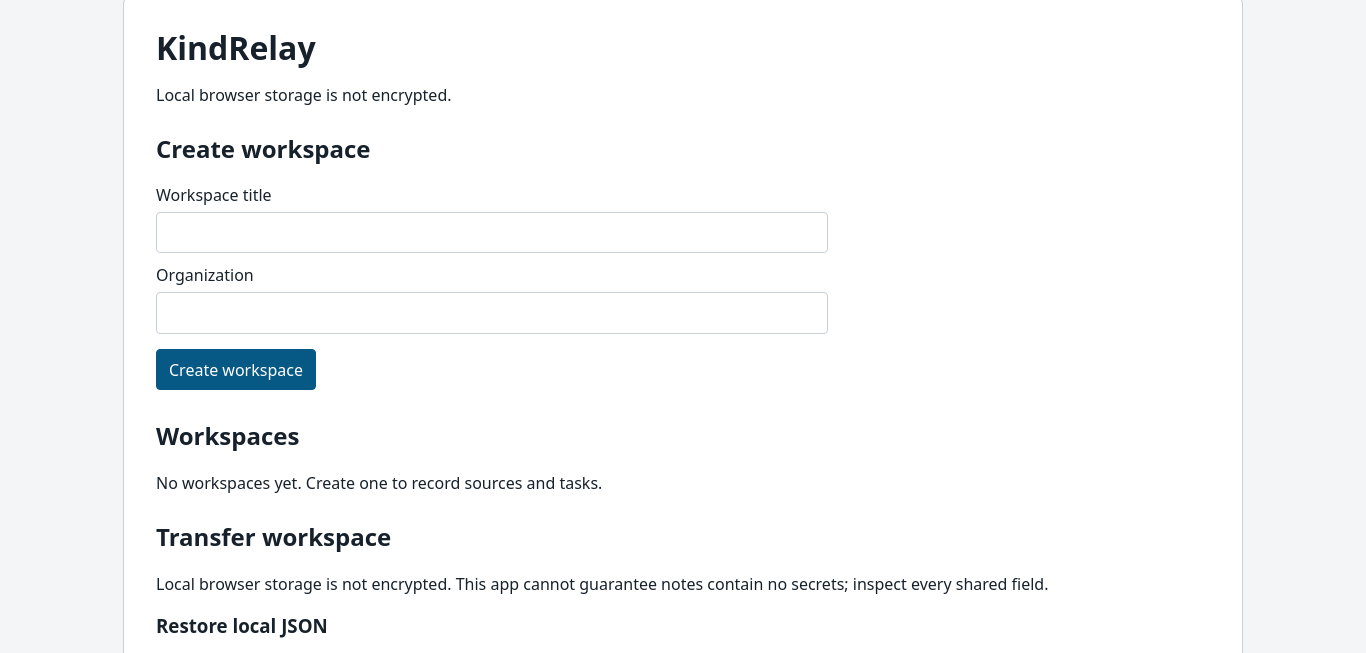
KindRelay workspace editor › accepts each canonical suggestion once and filters it after acceptance
Type "October handover" into the field labelled "Workspace title".
click(492, 232); type("October handover")  # box top-left (156, 212), bottom-right (828, 253)
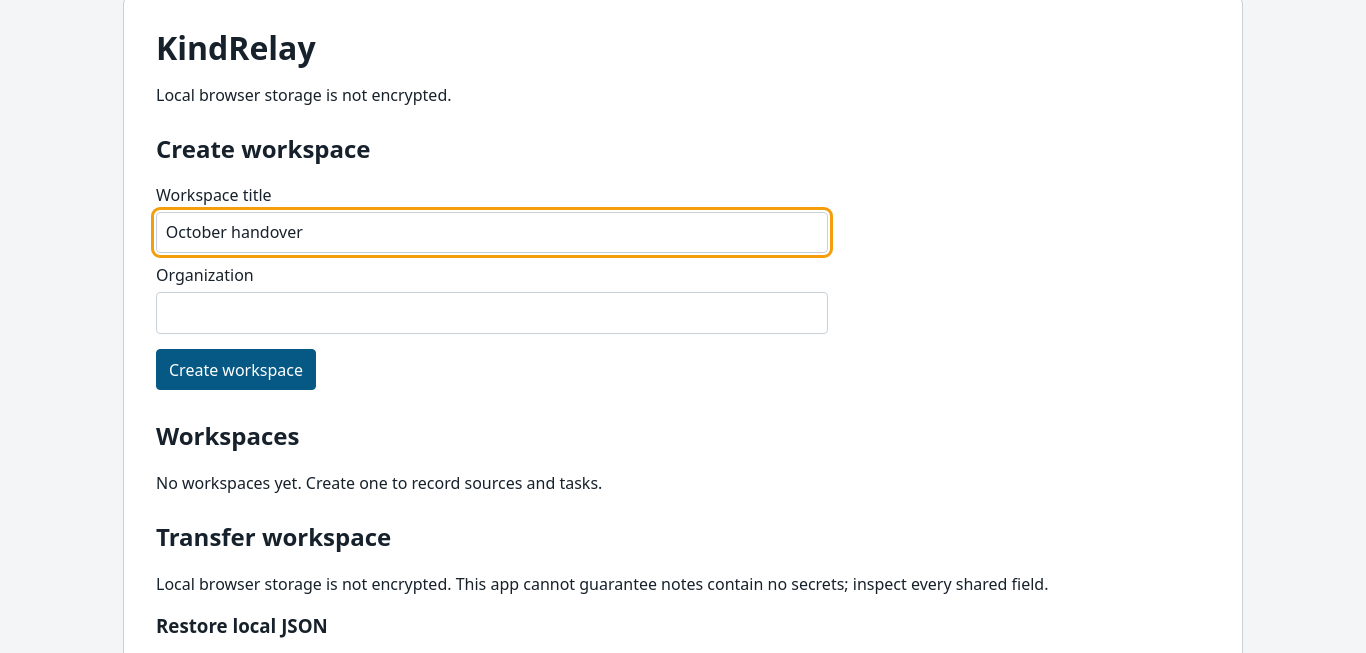
Type "Kind Org" into the field labelled "Organization".
click(492, 313); type("Kind Org")  # box top-left (156, 292), bottom-right (828, 334)
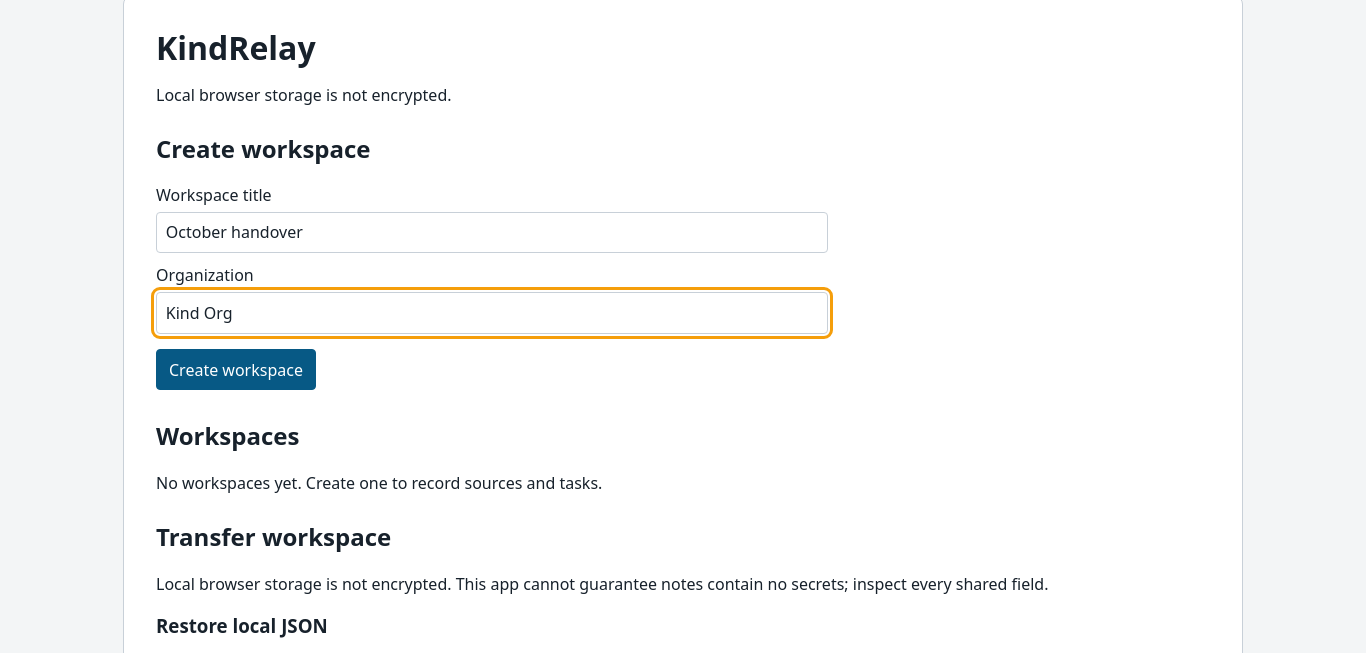
Click the button "Create workspace".
click(236, 370)  # box top-left (156, 349), bottom-right (316, 390)
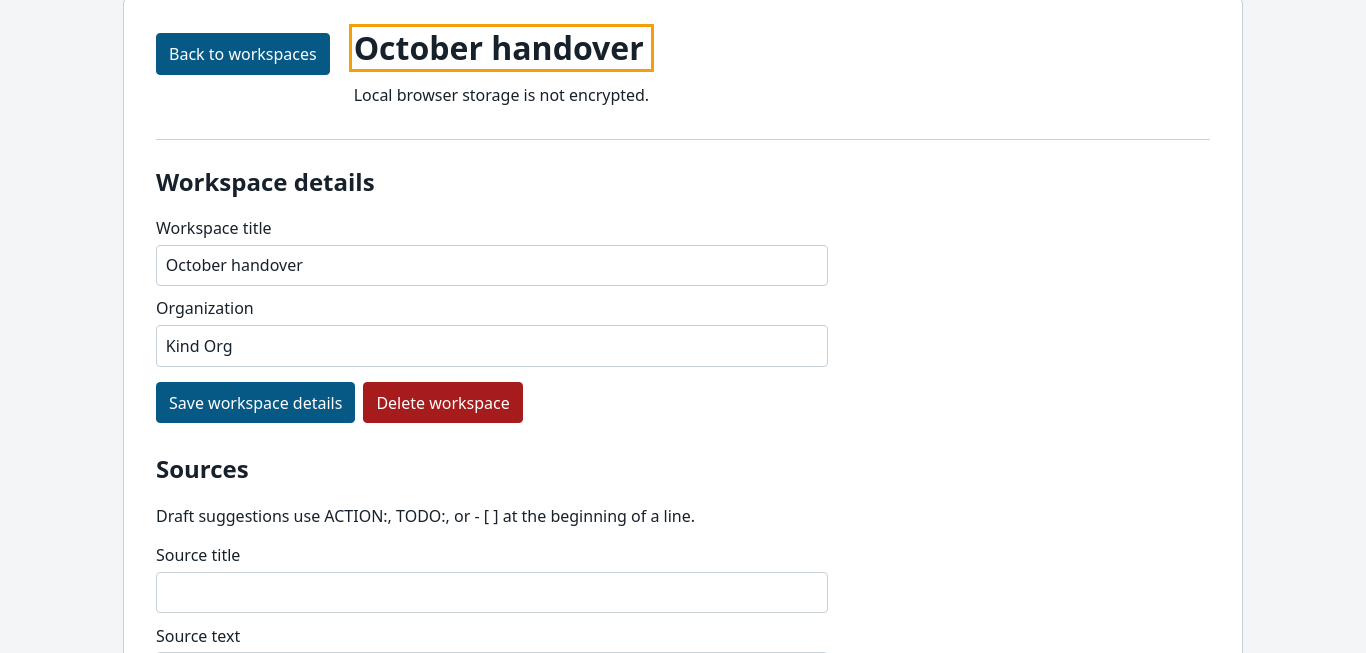
Now the heading "October handover" is shown, box top-left (354, 29), bottom-right (649, 67)
Click the button "Back to workspaces".
click(243, 54)  # box top-left (156, 33), bottom-right (330, 75)
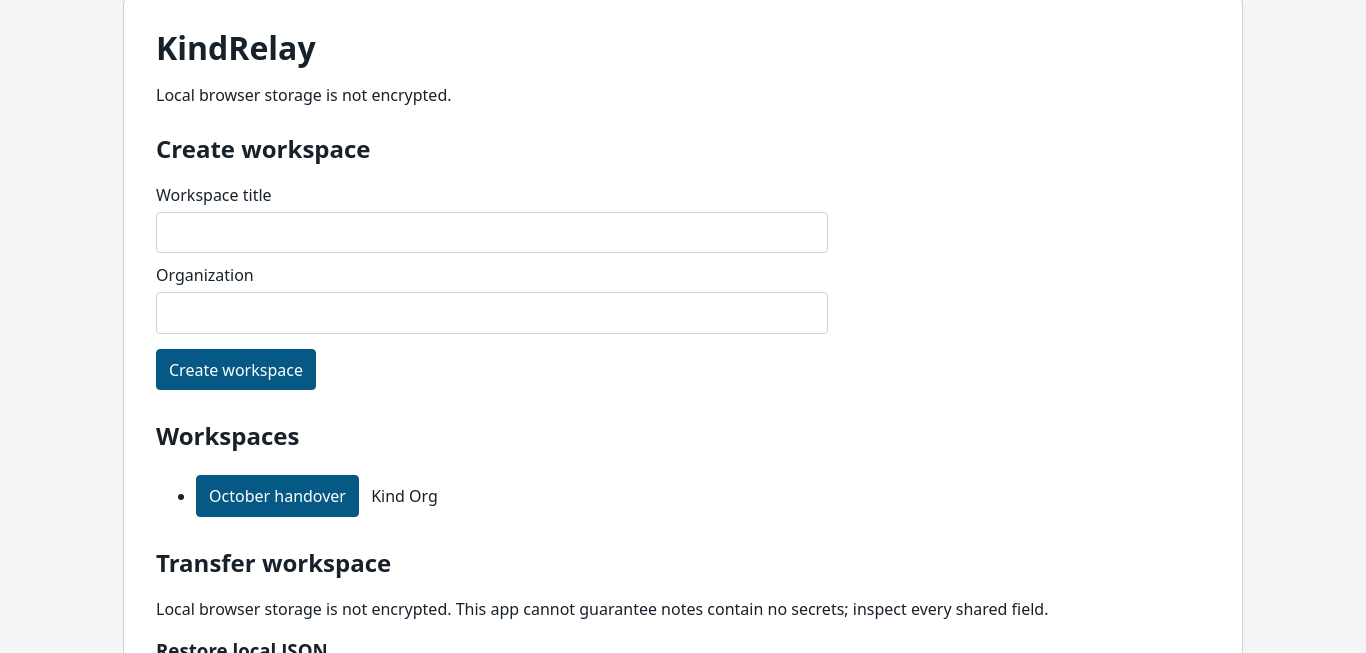
Click the button "October handover".
click(278, 496)  # box top-left (196, 475), bottom-right (359, 517)
(page scrolled)
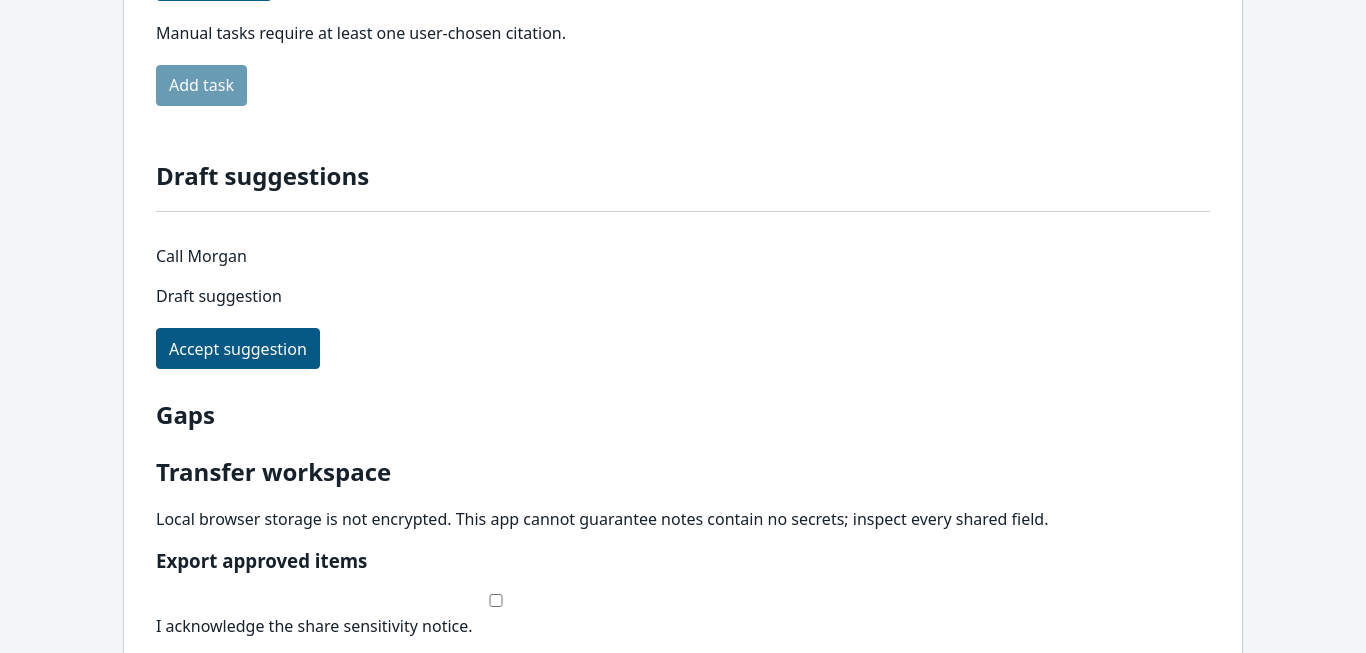
Click the button "Accept suggestion".
click(238, 349)  # box top-left (156, 328), bottom-right (320, 369)
(page scrolled)
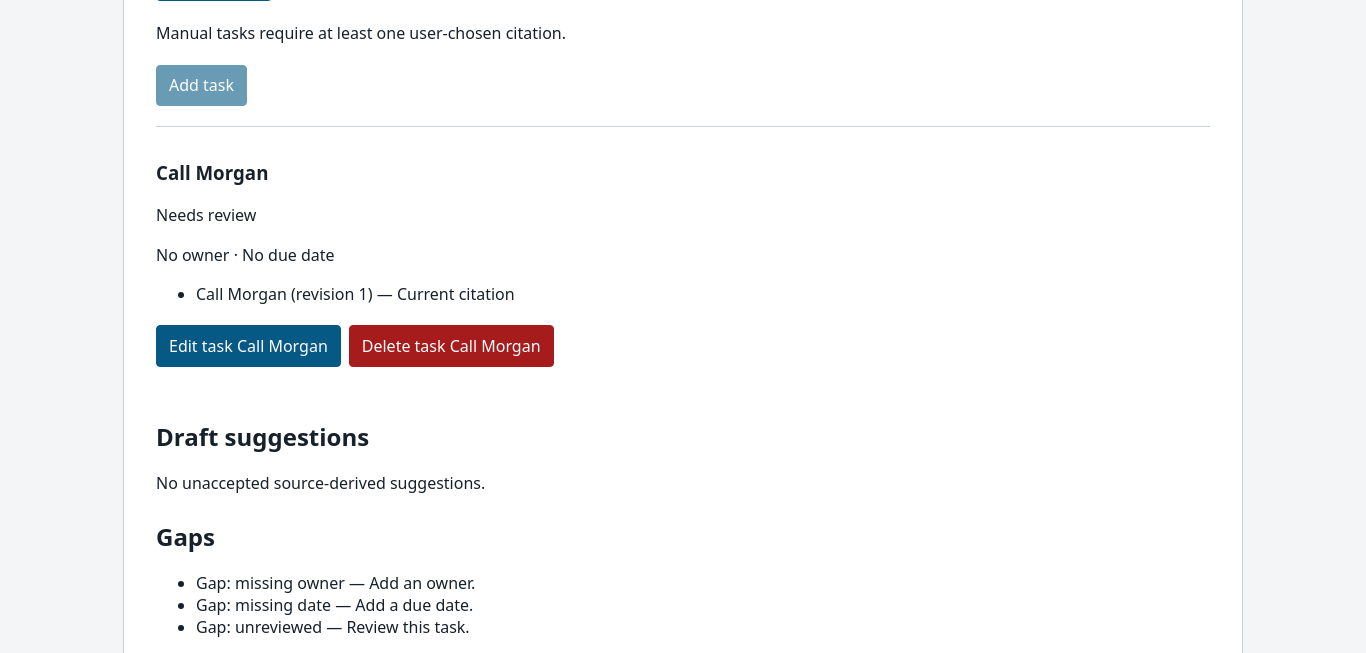
Now the button "Accept suggestion" is gone
